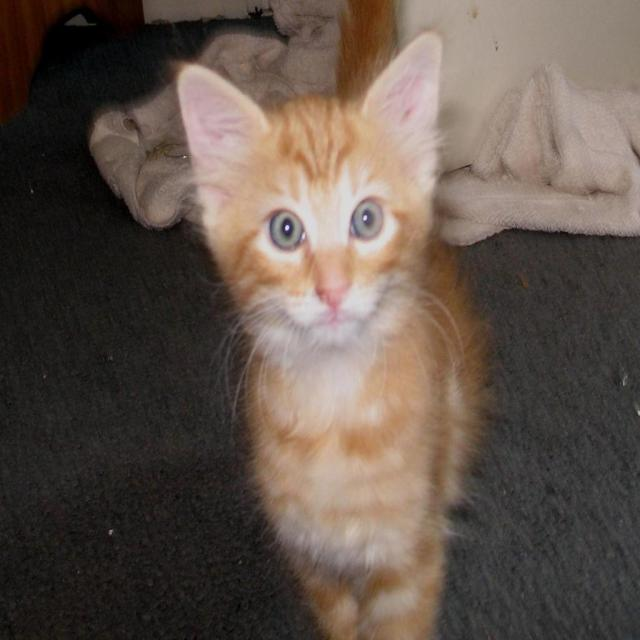Cat: (168, 29, 498, 638)
